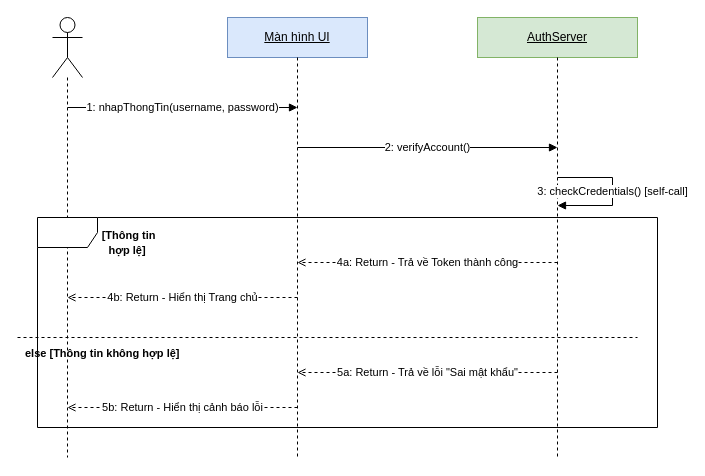
This 705x476 diagram has some shape labels left out. Here are the shapes that lost their labels. From the top down, the box of each, then its label:
(52, 16, 82, 78): Khách hàng
(36, 216, 658, 428): alt
